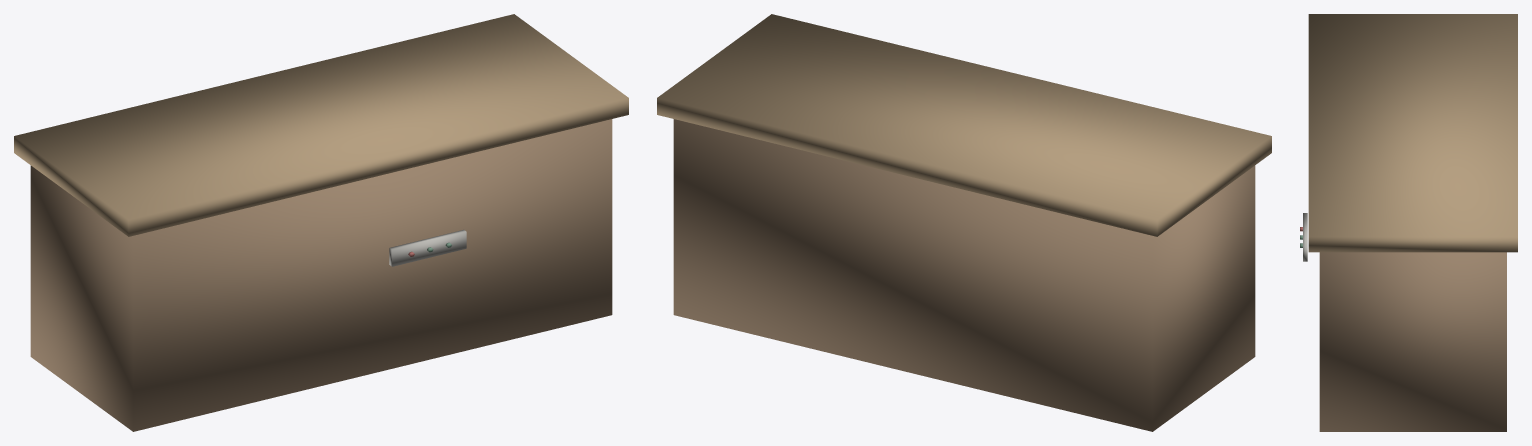
Rendered from hotel_reception_counter__squat.glb.
3 renders of one model, left to right at view 1: azimuth 30°, elevation 25°; view 2: azimuth 150°, elevation 25°; view 3: azimuth 270°, elevation 25°, orthographic. The views are drawn at different scales.
Parts seen in each view (by area): view 1: world; view 2: world; view 3: world.
Part boxes in pixels (x1,y1,x2,y2): world: (14, 14, 628, 431); world: (657, 14, 1271, 431); world: (1300, 14, 1517, 431).
Size of the model in its own units: 2.07 by 0.8652 by 0.8543.
